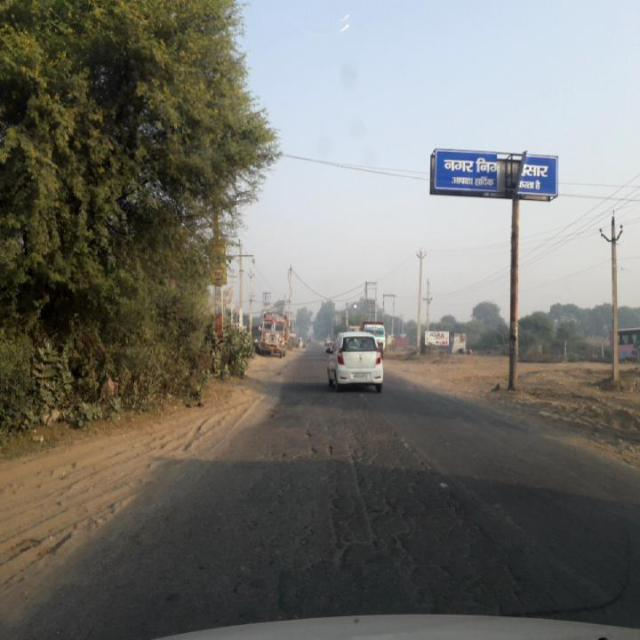D20: (209, 412, 505, 610)
